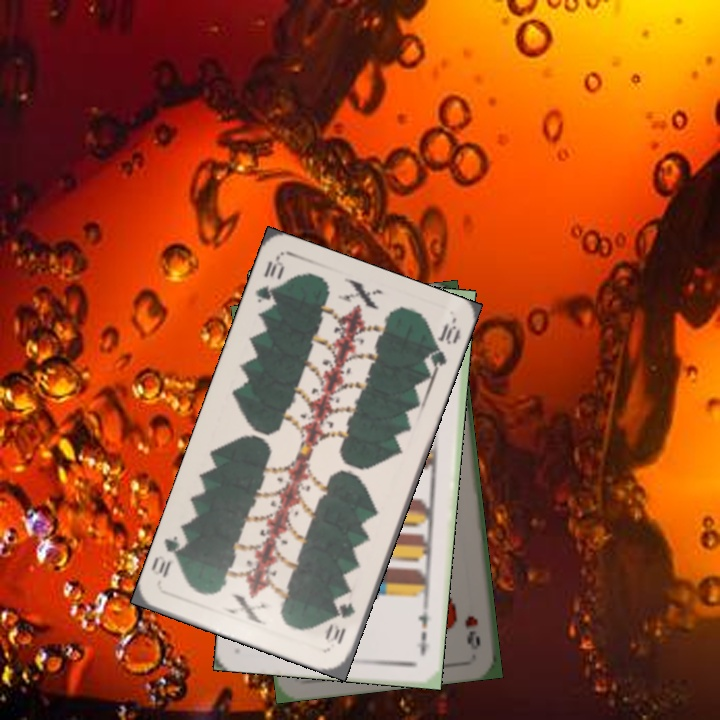E7: (412, 603, 431, 659)
G10: (251, 256, 287, 315), (322, 598, 358, 648)
H9: (461, 611, 483, 653)
